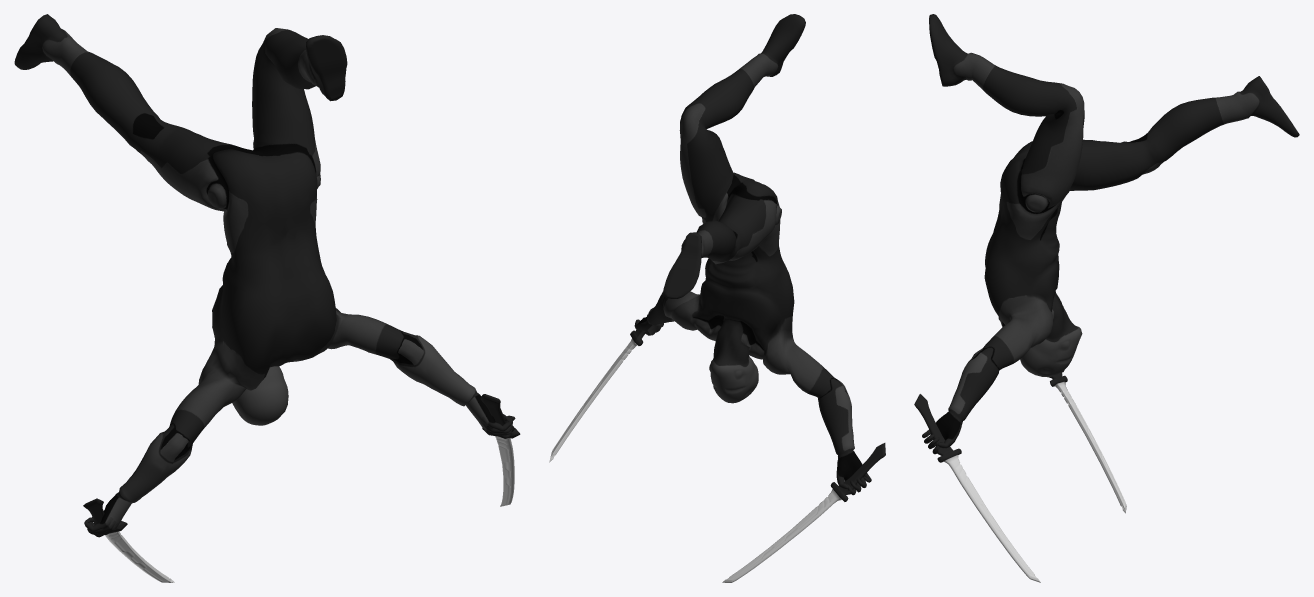
3 renders of one model, left to right at view 1: azimuth 30°, elevation 25°; view 2: azimuth 150°, elevation 25°; view 3: azimuth 270°, elevation 25°, orthographic. The views are drawn at different scales.
Visible parts, largest first — view 1: Cyborg_Ninja_Killer, Sword_l, Sword_l001; view 2: Cyborg_Ninja_Killer, Sword_l001, Sword_l; view 3: Cyborg_Ninja_Killer, Sword_l, Sword_l001.
Part boxes in pixels (left/top/right/bottom): Cyborg_Ninja_Killer: left=14, top=14, right=515, bottom=537; Sword_l: left=480, top=394, right=520, bottom=506; Sword_l001: left=83, top=498, right=174, bottom=582; Cyborg_Ninja_Killer: left=634, top=14, right=871, bottom=495; Sword_l001: left=722, top=443, right=885, bottom=582; Sword_l: left=549, top=329, right=645, bottom=462; Cyborg_Ninja_Killer: left=922, top=14, right=1299, bottom=454; Sword_l: left=914, top=394, right=1040, bottom=582; Sword_l001: left=1050, top=372, right=1126, bottom=513.
Size of the model in its own units: 158 by 222 by 153.
Materials: 2 (2 with a texture image).
